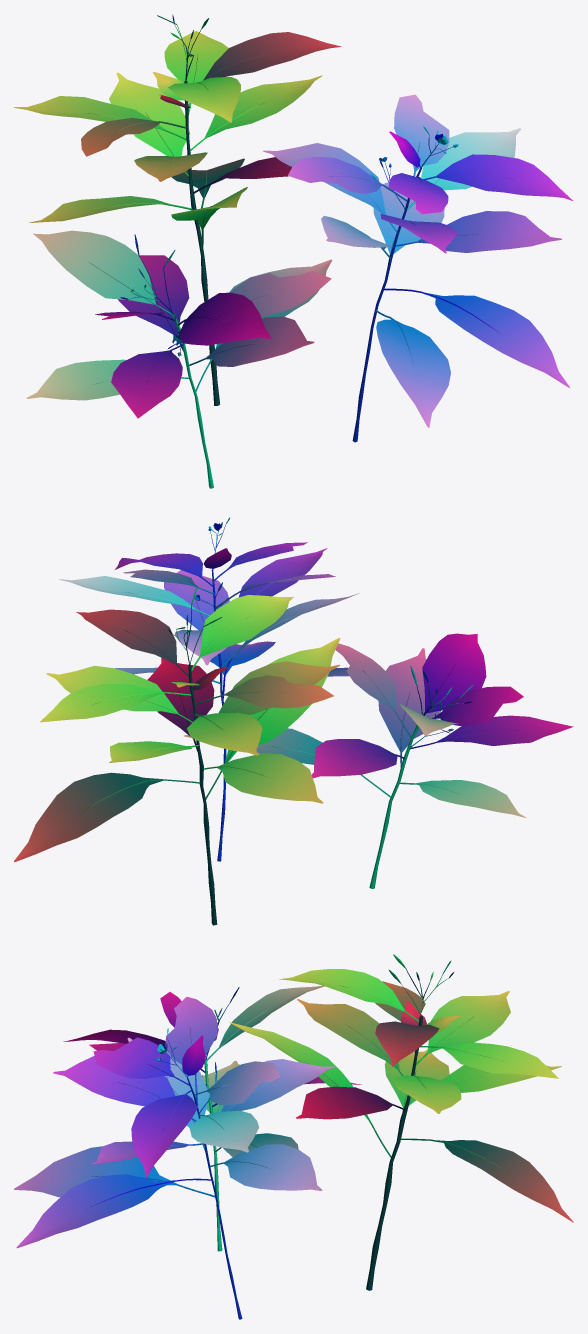
File: xefmcgrqx_VarF_LOD0.fbx
3 renders of one model, top to bottom at view 1: azimuth 30°, elevation 25°; view 2: azimuth 150°, elevation 25°; view 3: azimuth 270°, elevation 25°, orthographic. The views are drawn at different scales.
Visible parts, largest first — view 1: _9zfj_VarF_LOD1; view 2: _9zfj_VarF_LOD1; view 3: _9zfj_VarF_LOD1.
Part boxes in pixels (box(x1,y1,x2,y2)): _9zfj_VarF_LOD1: box(14, 14, 573, 488); _9zfj_VarF_LOD1: box(14, 517, 573, 925); _9zfj_VarF_LOD1: box(14, 954, 573, 1319).
Size of the model in its own units: 56.84 by 40.8 by 61.21.
